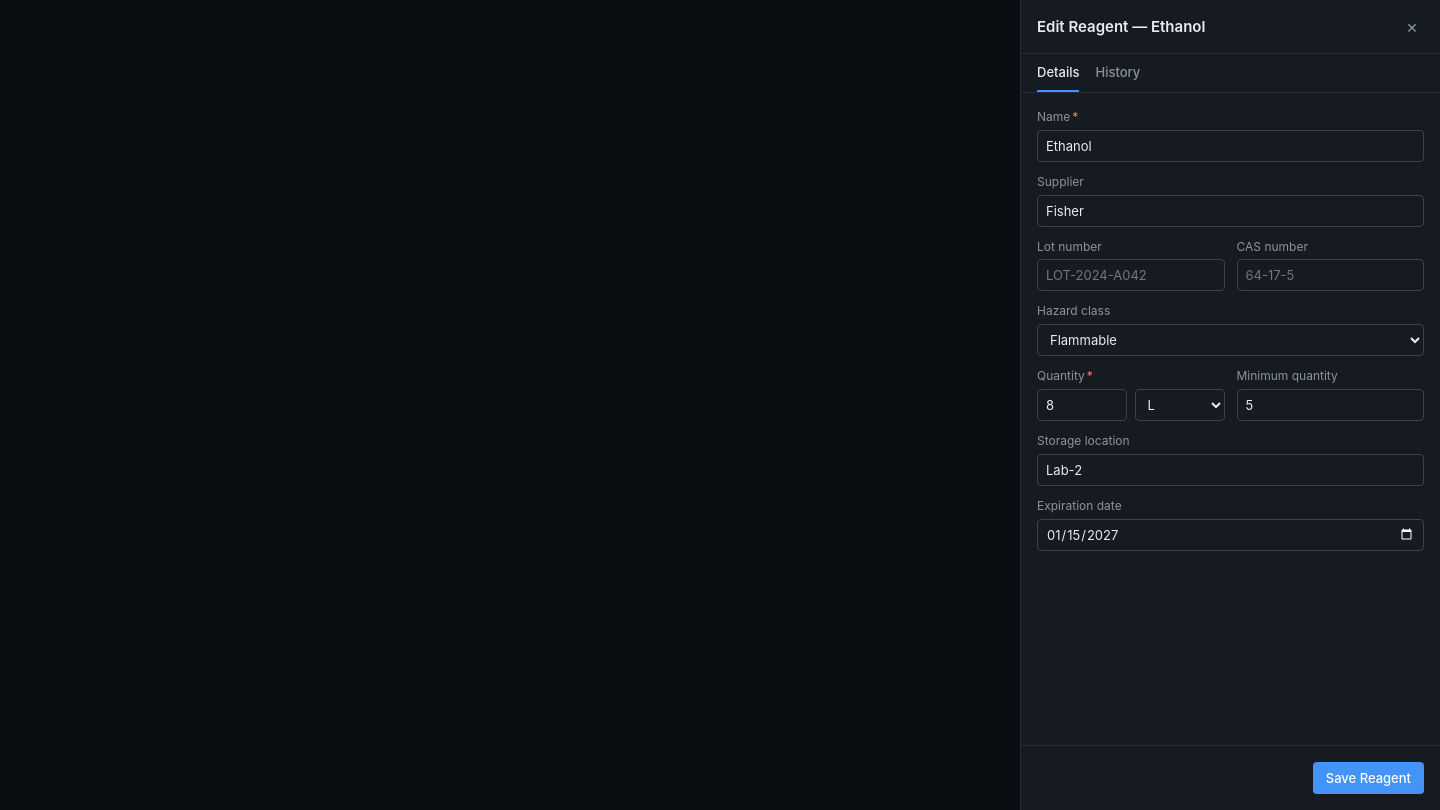
Scenario: ReagentForm history tab › fetches history when the History tab is clicked and renders an UPDATED event with one change row
Click the tab "History" at (1118, 73), box [1096, 54, 1140, 92]
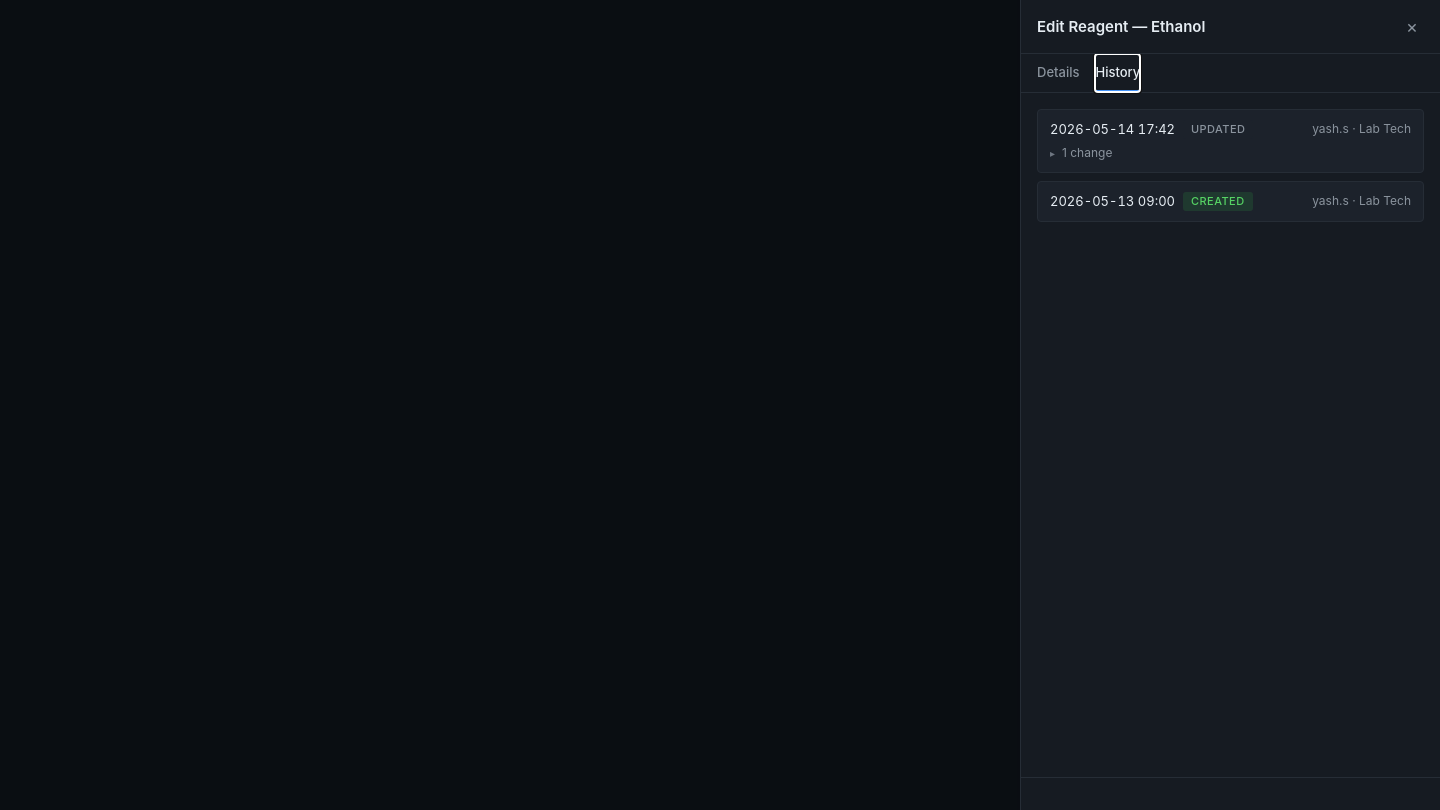
Click the heading "1 change" at (1087, 152), box [1062, 145, 1112, 160]
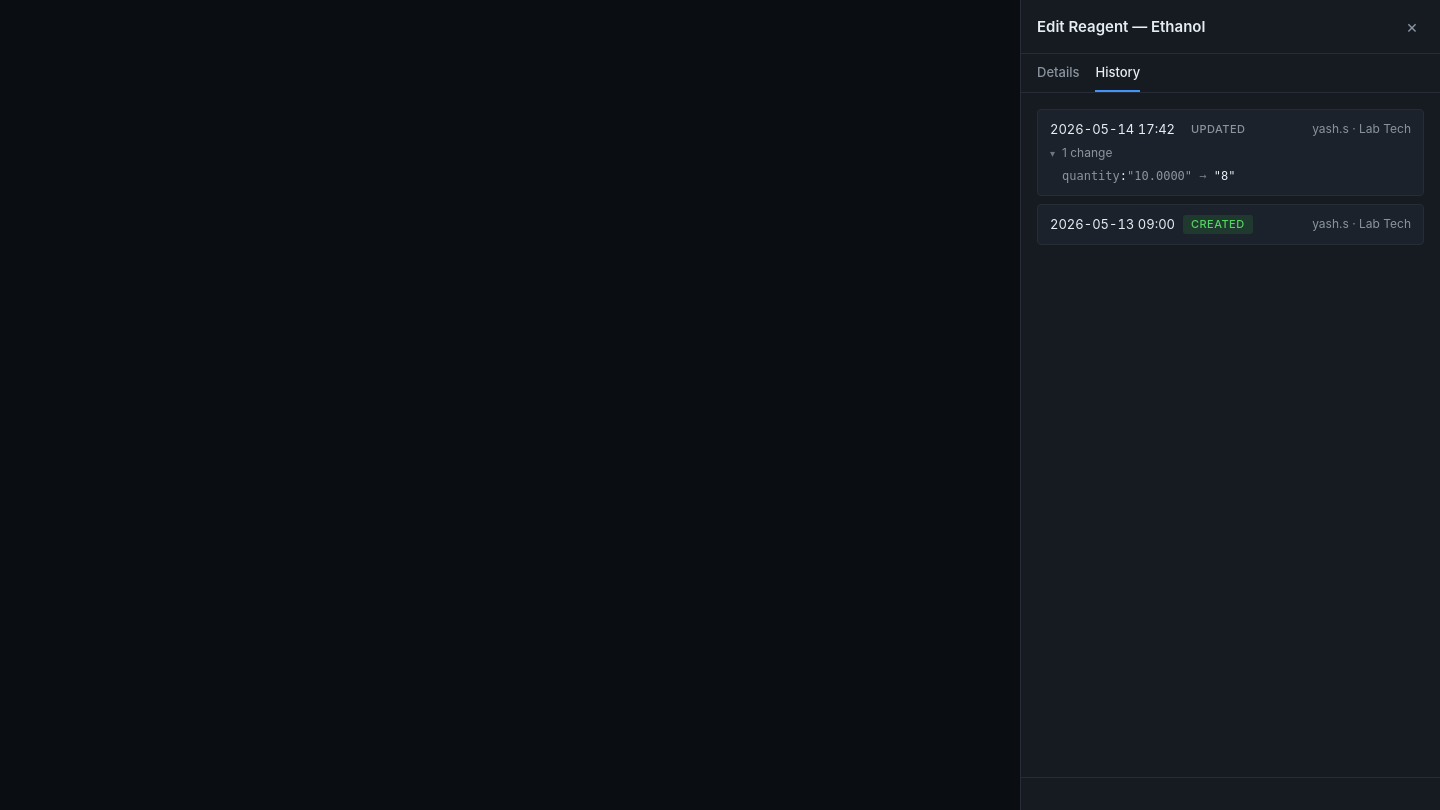
Expected: the number of list items with test id "event-change" is 1, [1062, 169, 1236, 183]
Expected: the list item with test id "event-change" shows "quantity", [1062, 169, 1120, 183]
Expected: the list item with test id "event-change" shows "10.0000", [1134, 169, 1185, 183]
